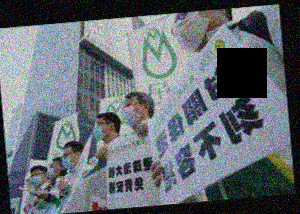with_mask: (174, 12, 211, 53), (120, 99, 142, 128), (91, 120, 108, 142), (60, 150, 76, 170), (28, 170, 43, 187), (45, 162, 59, 180)
